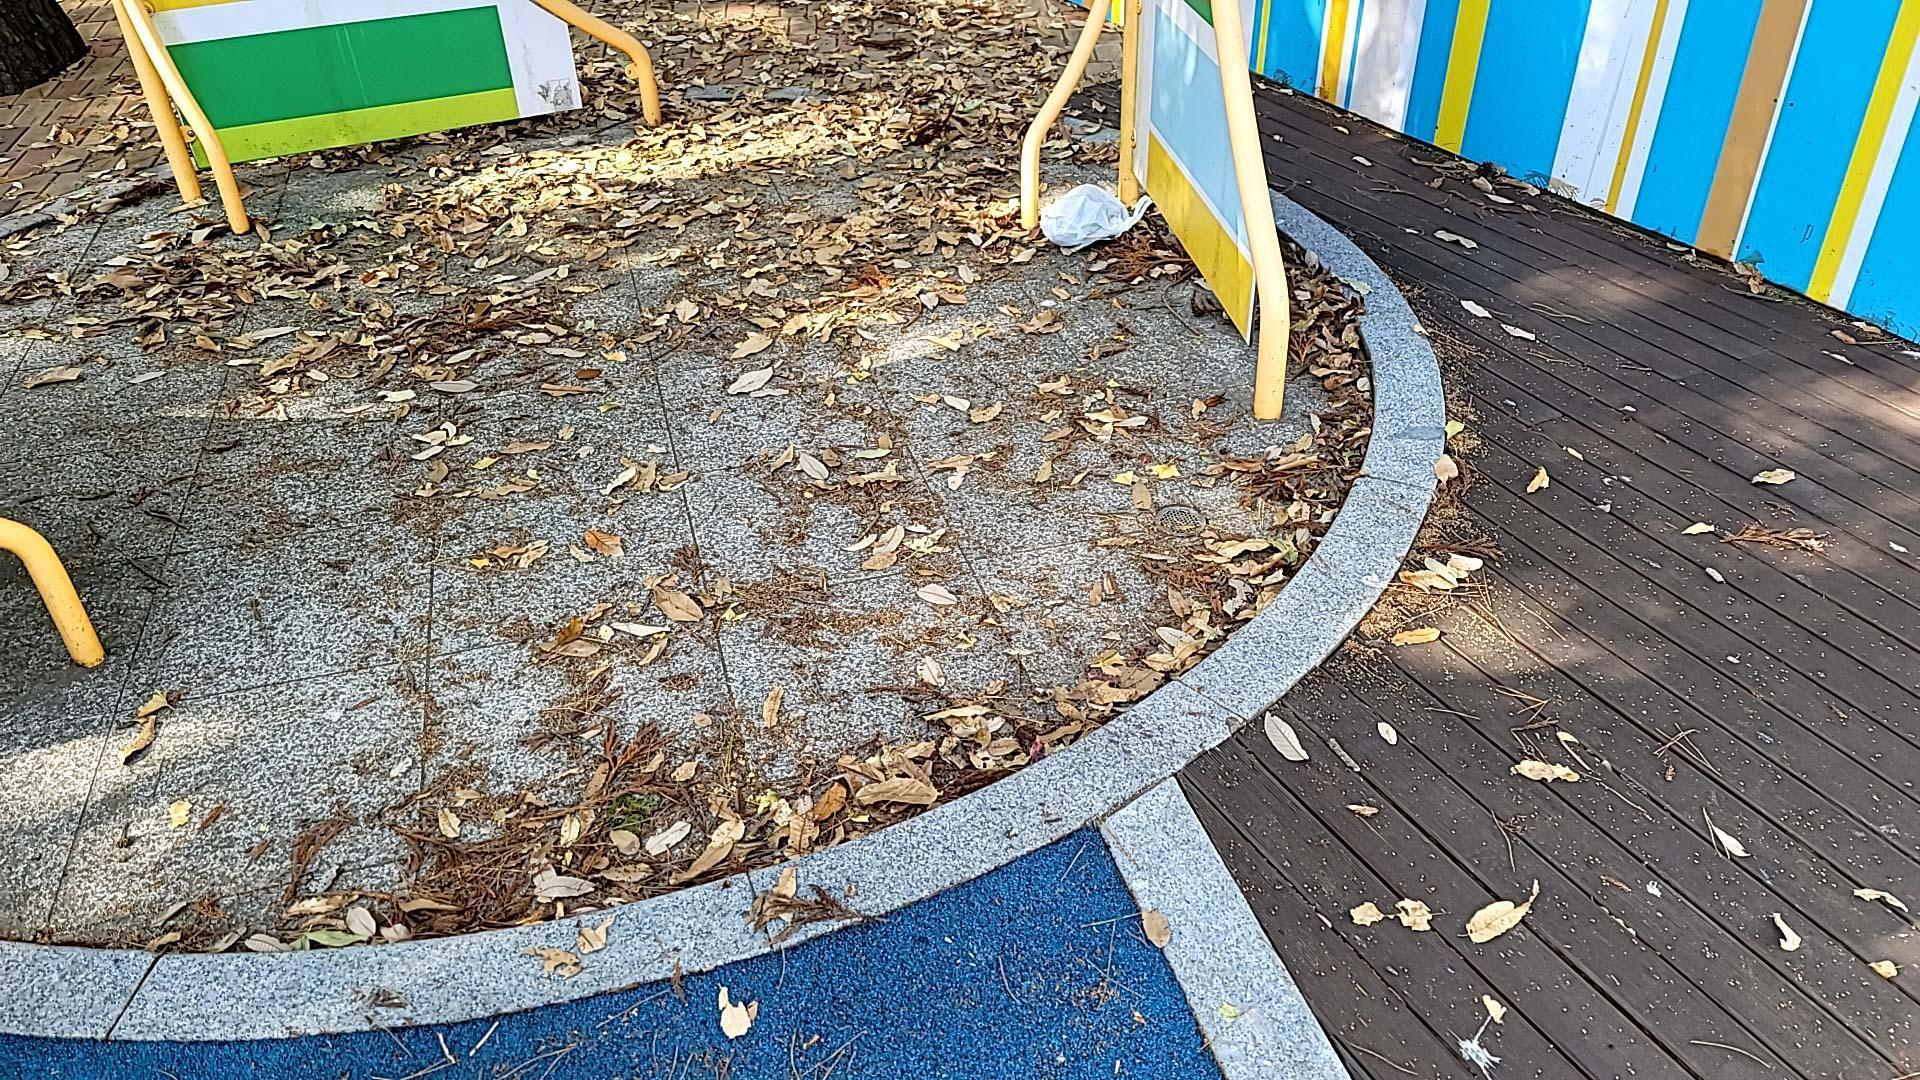white_bag: (1026, 175, 1155, 260)
